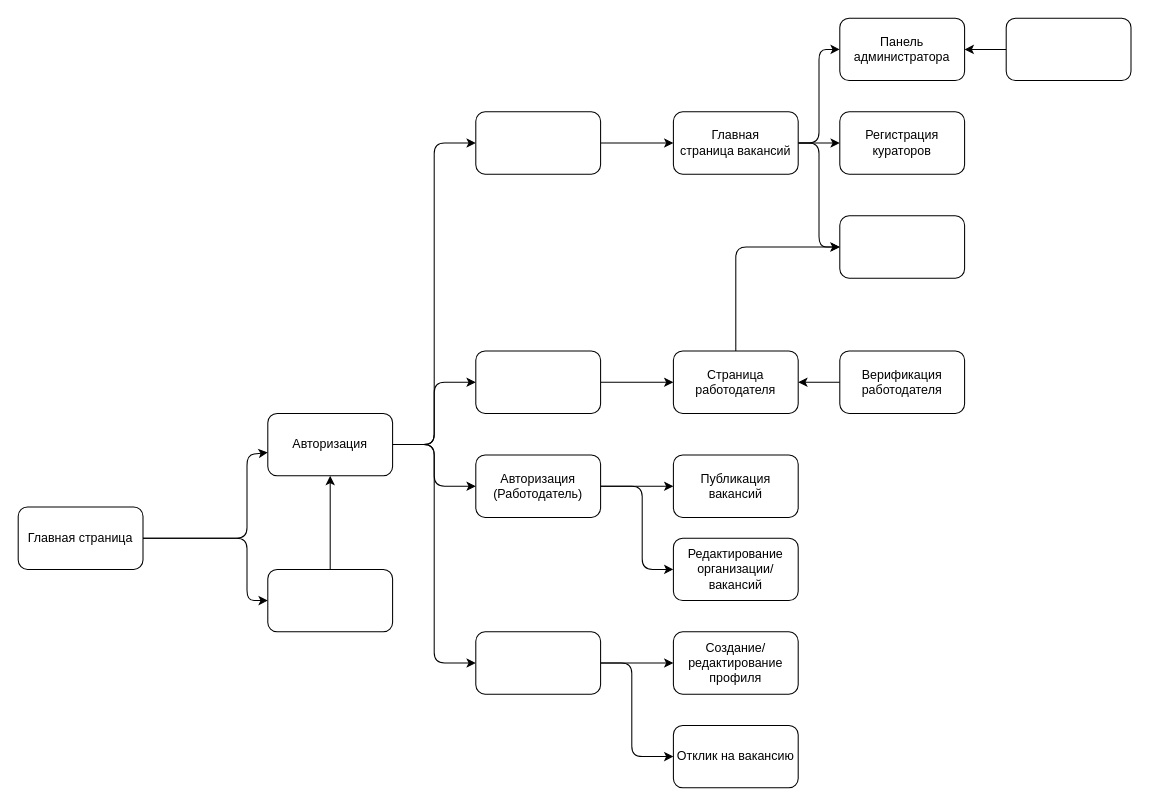
Image size: 1149x806. Some labels were removed from this diagram. Here are the shapes that lost their labels. From the top down, the centre of each, then its label:
(x=1068, y=49): Список пользователей (фильтры)
(x=538, y=142): Авторизация (Администратор)
(x=902, y=246): Удаление контента
(x=538, y=381): Авторизация (Куратор)
(x=330, y=600): Регистрация
(x=538, y=662): Авторизация (Студент)
